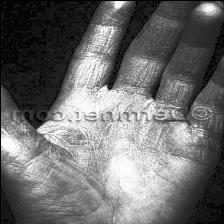Non-Cancerous Skin Condition: (52, 136, 176, 202)
